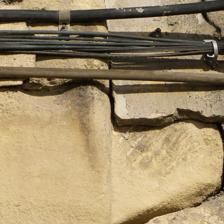Crack: (111, 94, 224, 138)
